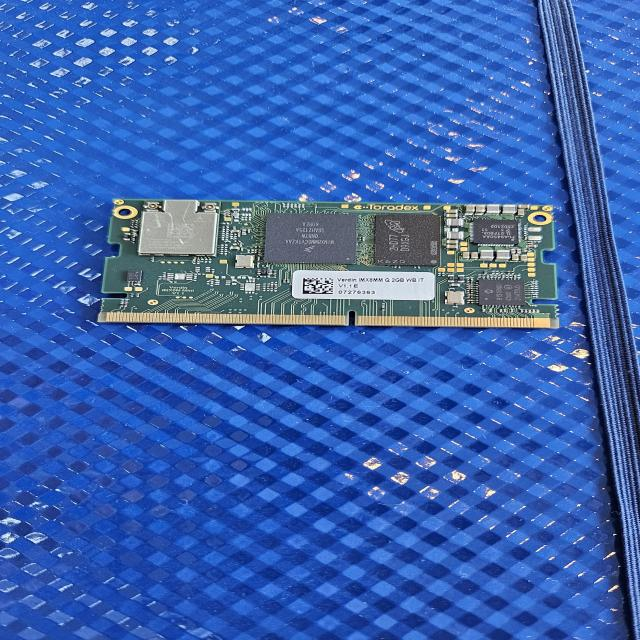som: (81, 197, 598, 335)
